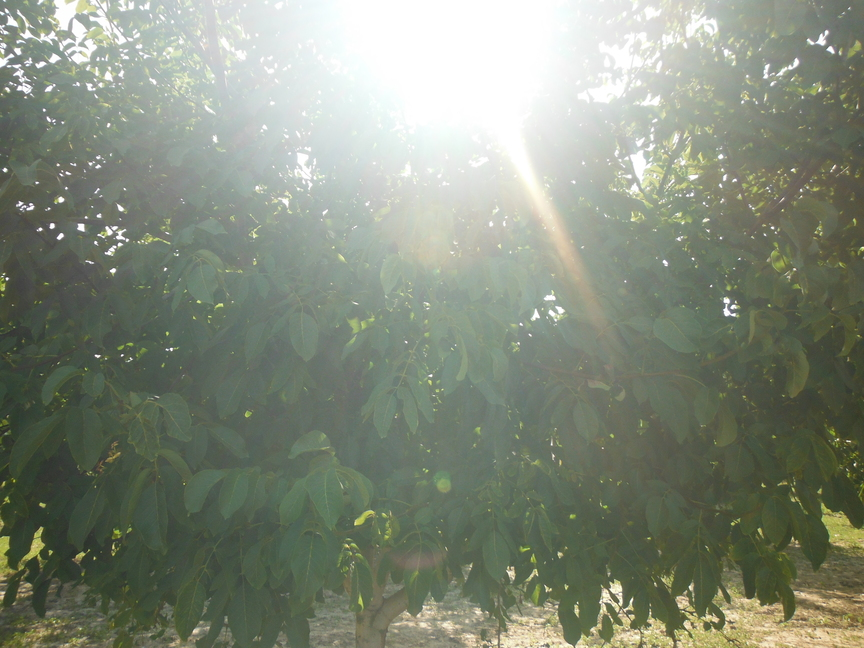walnut: (179, 369, 195, 390), (284, 290, 300, 309), (615, 284, 629, 300)
